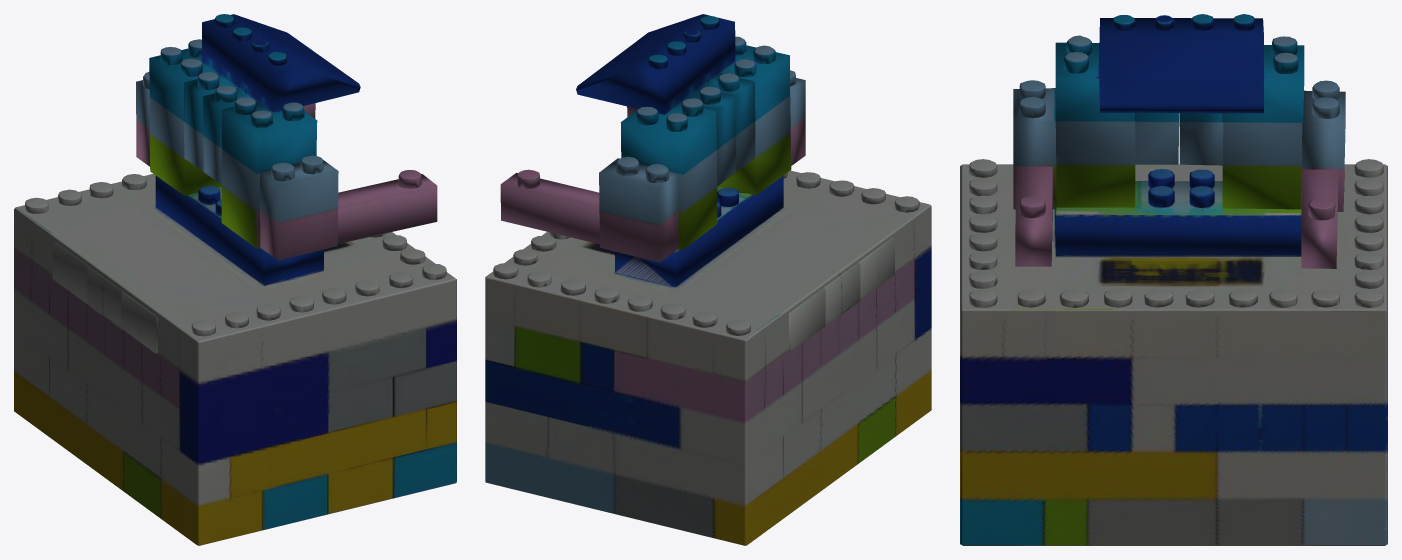
The model's file is object_44_asset_3c33661f.glb.
3 renders of one model, left to right at view 1: azimuth 30°, elevation 25°; view 2: azimuth 150°, elevation 25°; view 3: azimuth 270°, elevation 25°, orthographic. The views are drawn at different scales.
Parts seen in each view (by area): view 1: tripo_node_1e43dc9f-c563-48d1-a6dd-4b719de6a752; view 2: tripo_node_1e43dc9f-c563-48d1-a6dd-4b719de6a752; view 3: tripo_node_1e43dc9f-c563-48d1-a6dd-4b719de6a752.
Part boxes in pixels (bbox=[...]): tripo_node_1e43dc9f-c563-48d1-a6dd-4b719de6a752: bbox=[14, 14, 456, 545]; tripo_node_1e43dc9f-c563-48d1-a6dd-4b719de6a752: bbox=[485, 14, 931, 545]; tripo_node_1e43dc9f-c563-48d1-a6dd-4b719de6a752: bbox=[960, 14, 1387, 545].
Size of the model in its own units: 0.6934 by 0.998 by 0.8301.
Materials: 1 (1 with a texture image).
